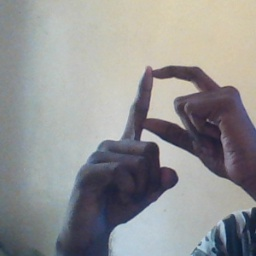D: (112, 57, 237, 179)
